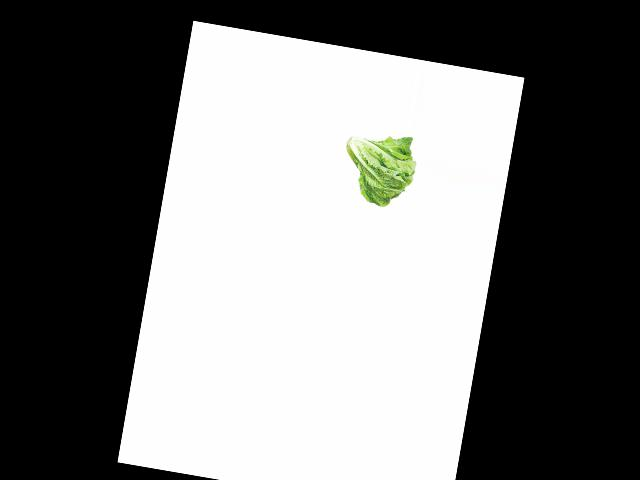lettuce: (333, 127, 420, 212)
